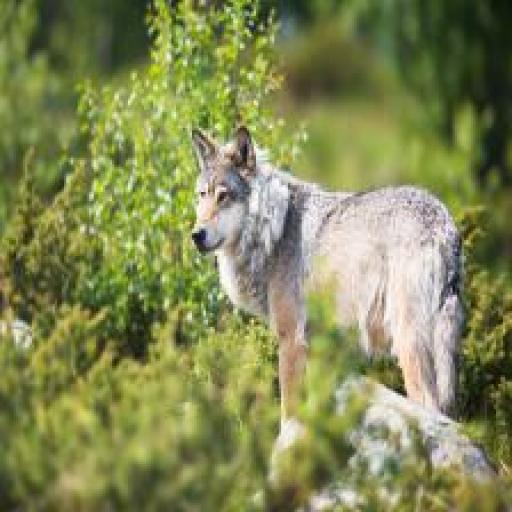wolf: (151, 82, 491, 486)
